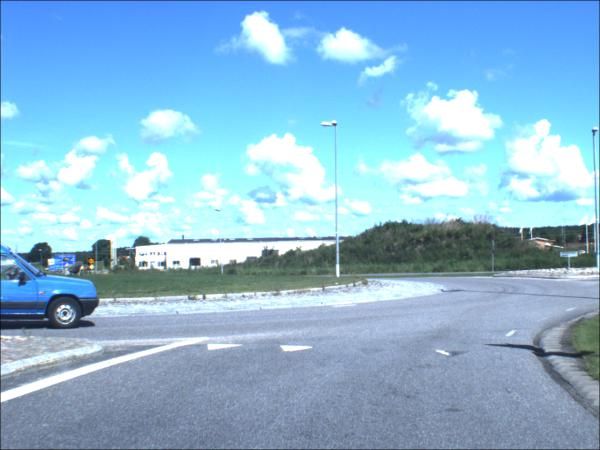80_SIGN: (90, 259, 96, 266)
PRIORITY_ROAD: (91, 266, 96, 271)
